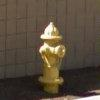Hydrant: (35, 13, 71, 99)
